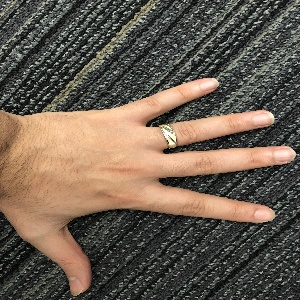hand: (22, 79, 294, 297)
